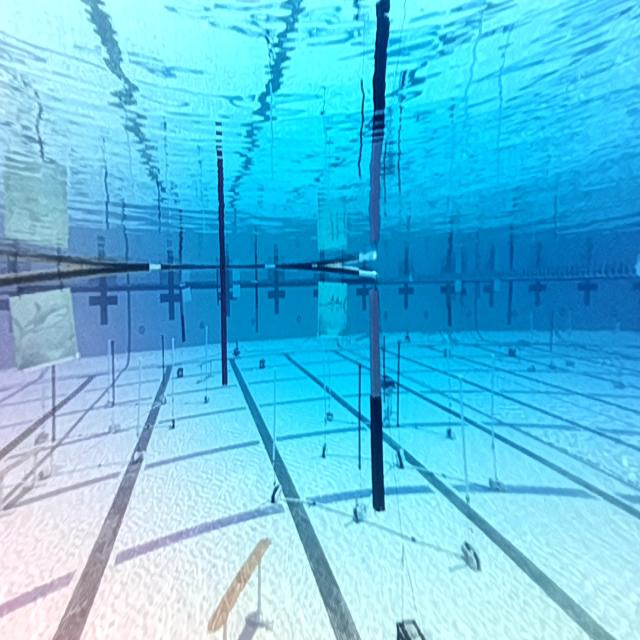pointed_nose: (320, 291, 351, 321)
round_nose: (8, 299, 77, 347)
